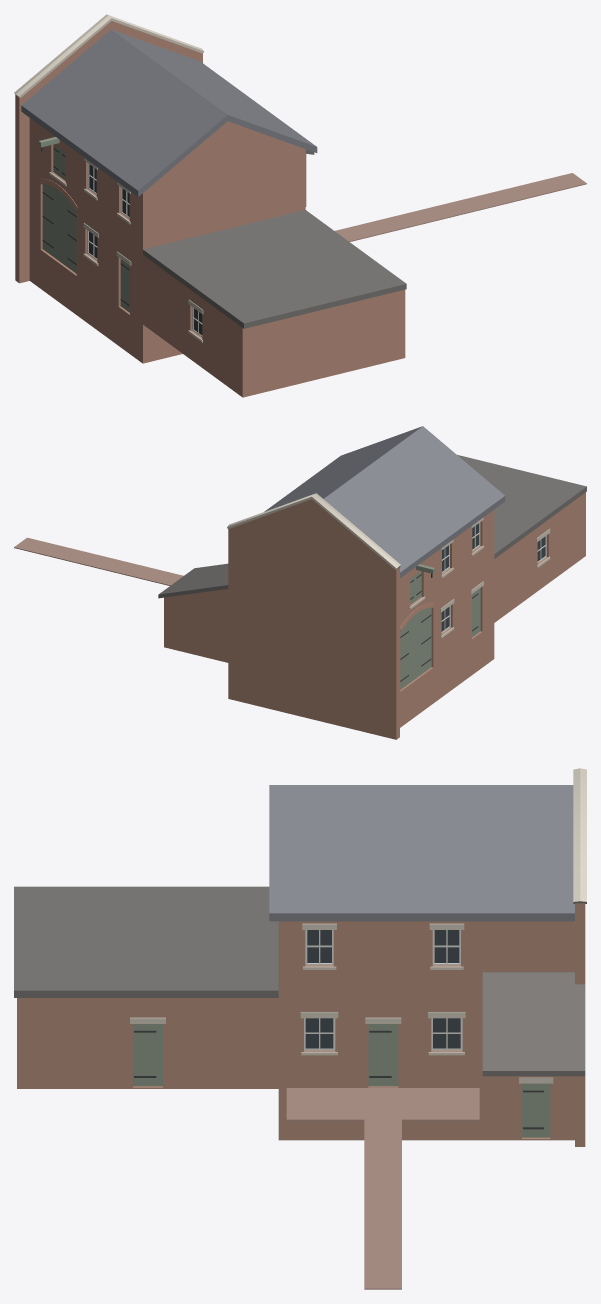
Rendered from house_1730_prairie_coach_house__as_standing_1904.glb.
The picture shows the model from 3 angles, top to bottom: view 1: azimuth 30°, elevation 25°; view 2: azimuth 150°, elevation 25°; view 3: azimuth 270°, elevation 25°; orthographic projection. The views are drawn at different scales.
Parts seen in each view (by area): view 1: house_1730_prairie_coach_house__as_standing_1904; view 2: house_1730_prairie_coach_house__as_standing_1904; view 3: house_1730_prairie_coach_house__as_standing_1904.
Boxes of the visible parts, x1,y1,x2,y2 form: house_1730_prairie_coach_house__as_standing_1904: [14, 14, 586, 397]; house_1730_prairie_coach_house__as_standing_1904: [14, 426, 586, 739]; house_1730_prairie_coach_house__as_standing_1904: [14, 768, 586, 1289].
Bounding box in the file's own units: 23.84 × 11.24 × 18.23.
